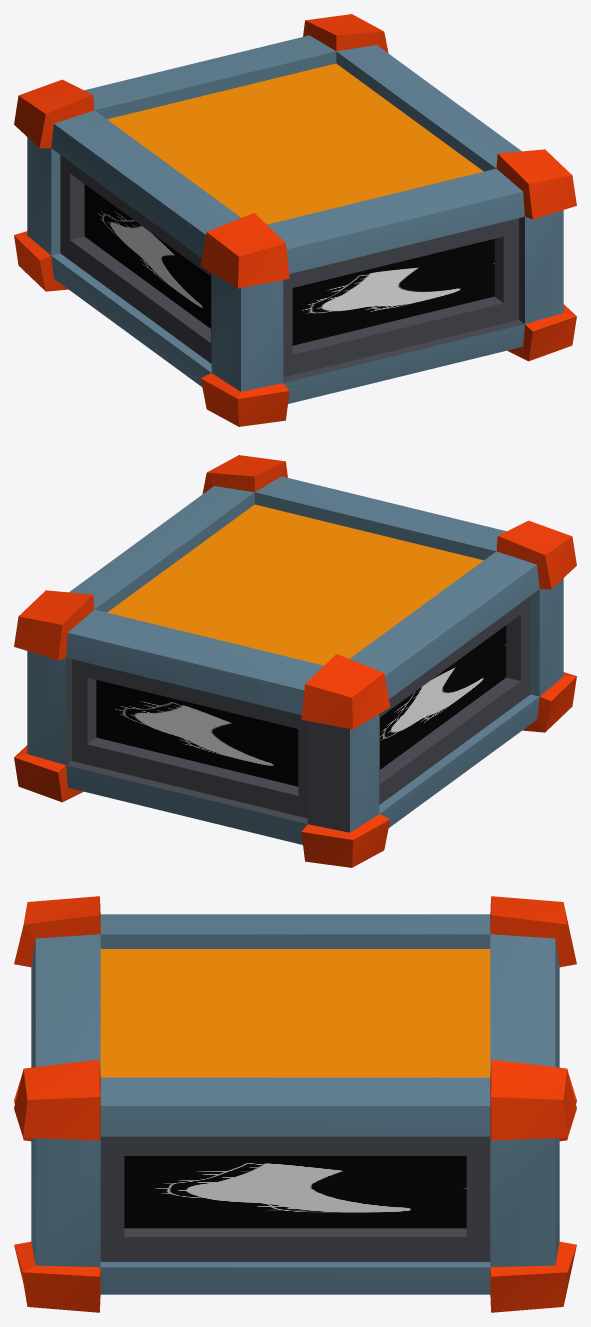
The model's file is speed_up.obj.
3 renders of one model, top to bottom at view 1: azimuth 30°, elevation 25°; view 2: azimuth 150°, elevation 25°; view 3: azimuth 270°, elevation 25°, orthographic. The views are drawn at different scales.
Visible parts, largest first — view 1: Box001, Object003, Object004, Object001, Object002; view 2: Box001, Object003, Object004, Object001, Object002; view 3: Box001, Object003, Object001, Object002, Object004.
Boxes of the visible parts, x1,y1,x2,y2 form: Box001: [27, 35, 563, 403]; Object003: [107, 63, 483, 224]; Object004: [60, 155, 524, 382]; Object001: [14, 14, 576, 426]; Object002: [84, 184, 494, 345]; Box001: [27, 476, 563, 844]; Object003: [107, 504, 483, 665]; Object004: [66, 596, 530, 832]; Object001: [14, 455, 576, 867]; Object002: [96, 625, 506, 786]; Box001: [31, 914, 559, 1294]; Object003: [100, 949, 490, 1077]; Object001: [14, 896, 576, 1312]; Object002: [124, 1156, 466, 1228]; Object004: [100, 1136, 490, 1261].
Bounding box in the file's own units: 84.92 × 44.52 × 97.02.
5 materials, 1 textured.
